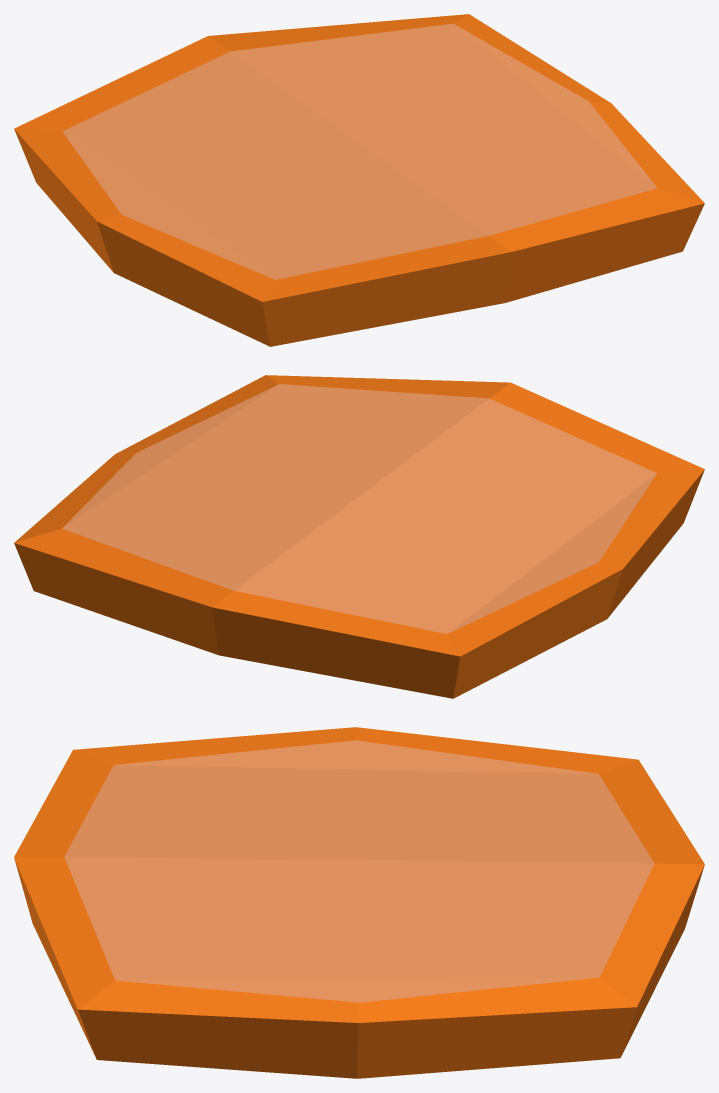
Rendered from orangeSlice.fbx.
The picture shows the model from 3 angles, top to bottom: view 1: azimuth 30°, elevation 25°; view 2: azimuth 150°, elevation 25°; view 3: azimuth 270°, elevation 25°; orthographic projection. The views are drawn at different scales.
Parts seen in each view (by area): view 1: orangeSlice; view 2: orangeSlice; view 3: orangeSlice.
Part boxes in pixels (bbox=[...]): orangeSlice: bbox=[14, 14, 704, 346]; orangeSlice: bbox=[14, 375, 704, 698]; orangeSlice: bbox=[14, 727, 704, 1078].
Bounding box in the file's own units: 5.79 × 0.8519 × 5.9.
Materials: 1 (1 with a texture image).
